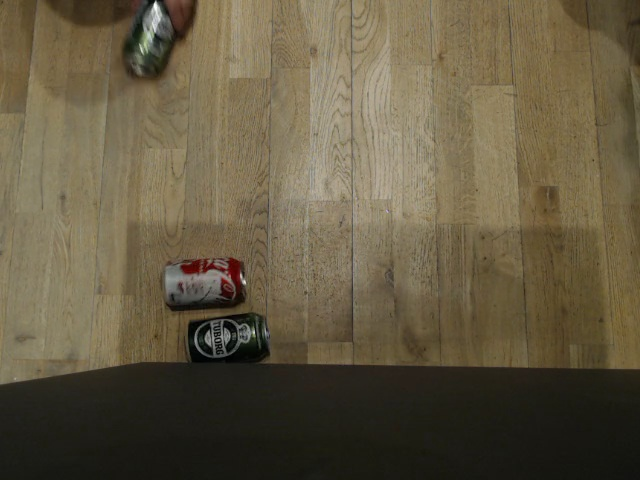beer: (121, 0, 191, 87), (182, 309, 272, 369)
cola: (157, 246, 252, 312)
